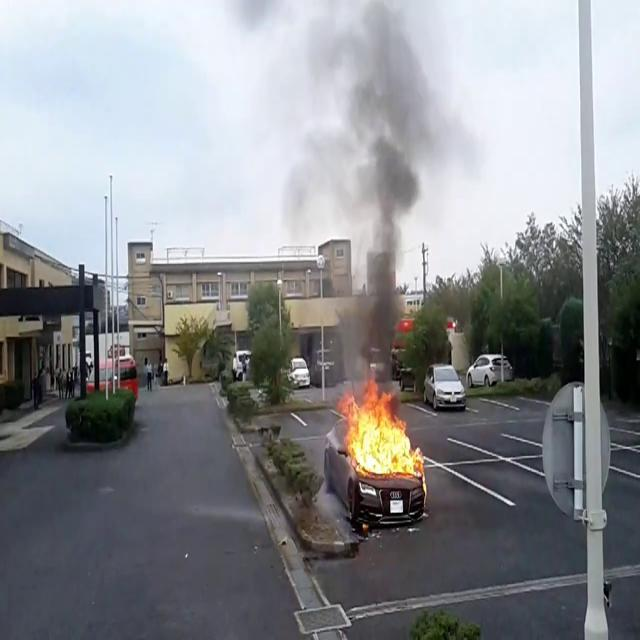Fire: (336, 382, 425, 480)
Smoke: (332, 3, 432, 380)
